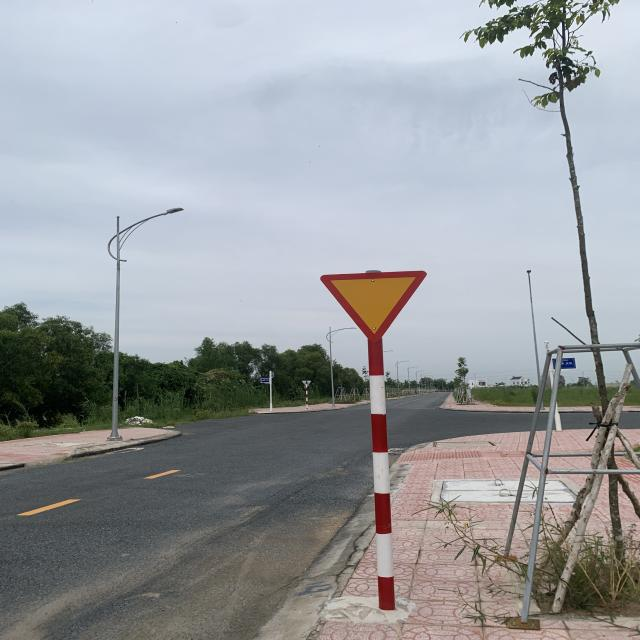Gioi_Han_Toc_Do_25: (320, 270, 430, 343)
